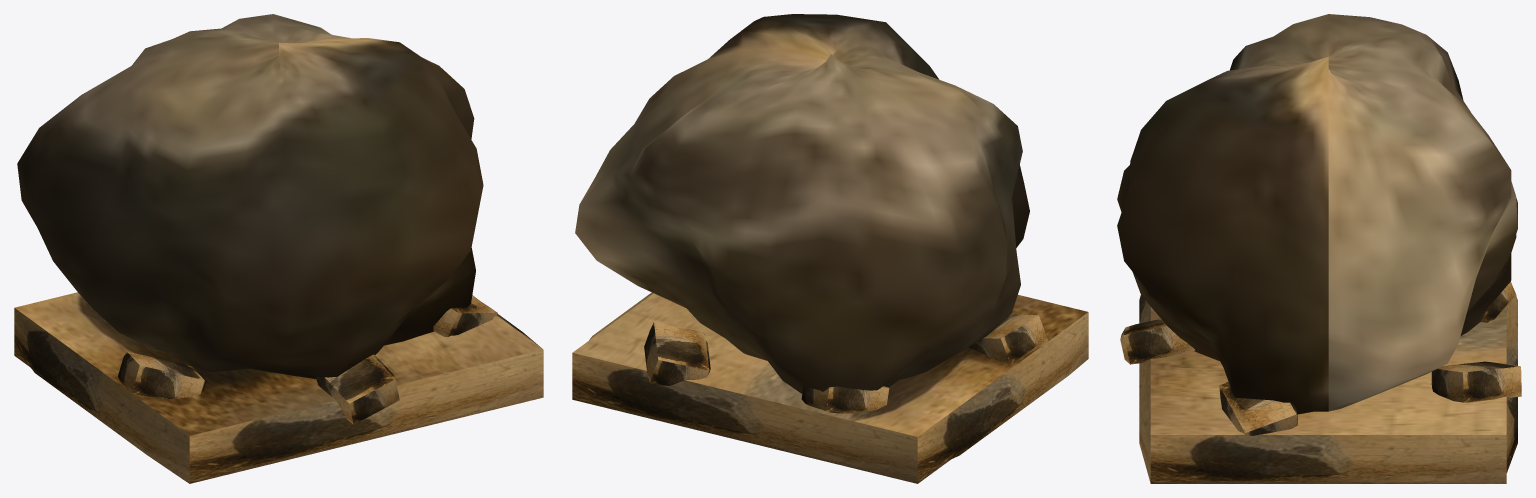
File: stone-cut-without-hands.glb
The picture shows the model from 3 angles, left to right: view 1: azimuth 30°, elevation 25°; view 2: azimuth 150°, elevation 25°; view 3: azimuth 270°, elevation 25°; orthographic projection. The views are drawn at different scales.
Visible parts, largest first — view 1: HeroRelicMonument; view 2: HeroRelicMonument; view 3: HeroRelicMonument.
Boxes of the visible parts, x1,y1,x2,y2 form: HeroRelicMonument: (14, 14, 543, 483); HeroRelicMonument: (572, 14, 1088, 483); HeroRelicMonument: (1117, 14, 1521, 483).
Size of the model in its own units: 1.74 by 1.31 by 1.41.
Materials: 1 (1 with a texture image).
